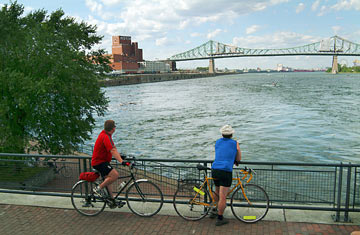bikerider: (70, 115, 166, 224)
